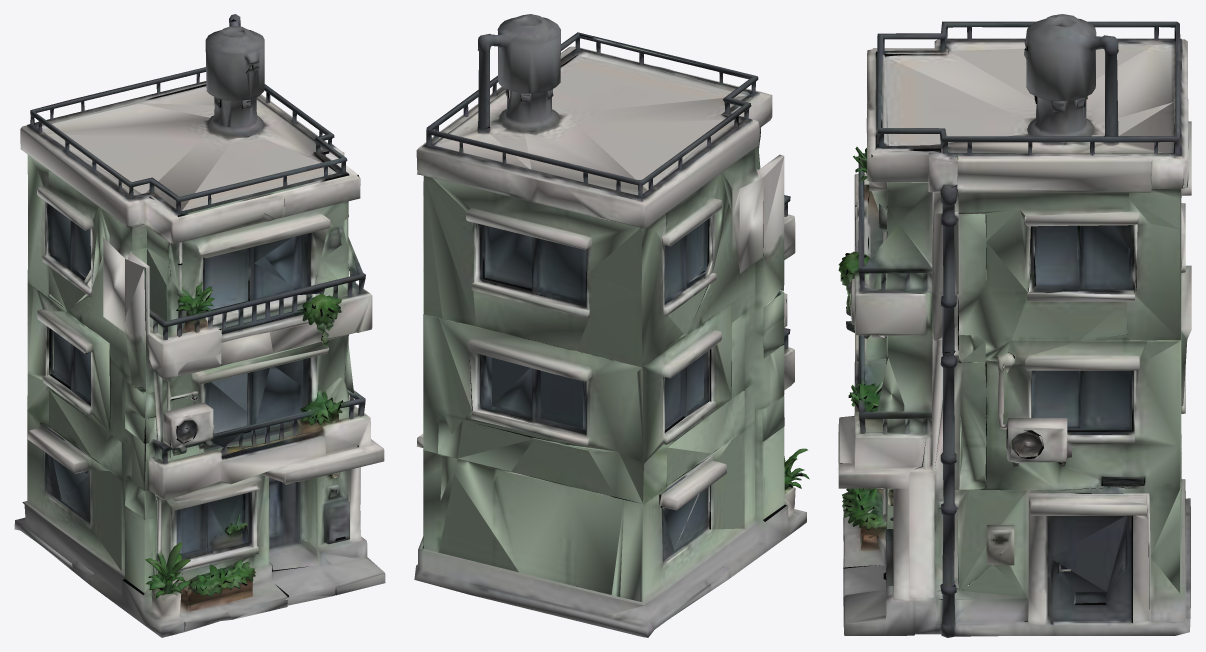
Rendered from building21.glb.
3 views of the same model, side by side, from view 1: azimuth 30°, elevation 25°; view 2: azimuth 150°, elevation 25°; view 3: azimuth 270°, elevation 25° (orthographic). The views are drawn at different scales.
Parts seen in each view (by area): view 1: lo; view 2: lo; view 3: lo.
Part boxes in pixels (box(x1,y1,x2,y2)): lo: box(14, 14, 385, 637); lo: box(414, 14, 809, 637); lo: box(838, 14, 1191, 637).
Bounding box in the file's own units: 0.5014 × 0.9784 × 0.5384.
1 material, 1 textured.
